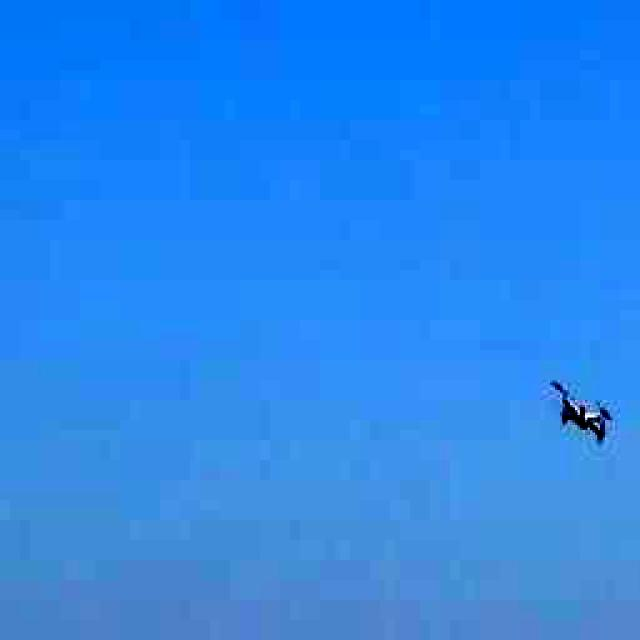bird: (529, 359, 626, 459)
